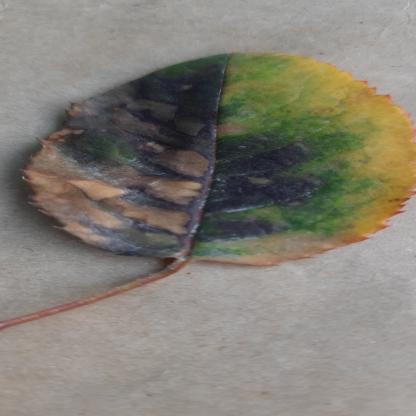powdery-mildew: (24, 49, 414, 268)
